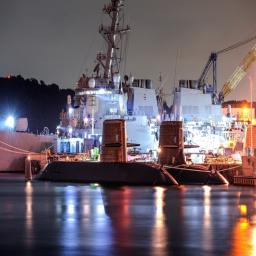submarine: (37, 116, 181, 182), (150, 120, 232, 187)
